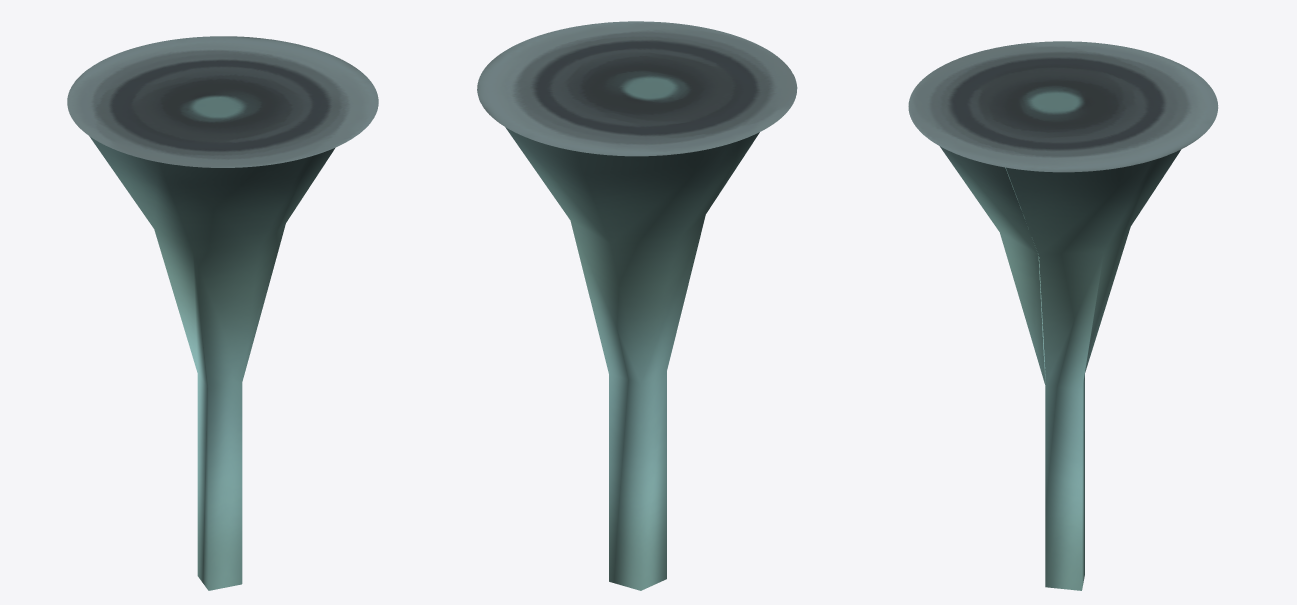
The model's file is tubule_02.fbx.
The picture shows the model from 3 angles, left to right: view 1: azimuth 30°, elevation 25°; view 2: azimuth 150°, elevation 25°; view 3: azimuth 270°, elevation 25°; orthographic projection. The views are drawn at different scales.
Parts seen in each view (by area): view 1: sav_tubule_02_LOD0; view 2: sav_tubule_02_LOD0; view 3: sav_tubule_02_LOD0.
Boxes of the visible parts, x1,y1,x2,y2 form: sav_tubule_02_LOD0: [67, 36, 378, 590]; sav_tubule_02_LOD0: [477, 21, 797, 590]; sav_tubule_02_LOD0: [908, 41, 1218, 590].
Size of the model in its own units: 29.31 by 35.05 by 29.29.
